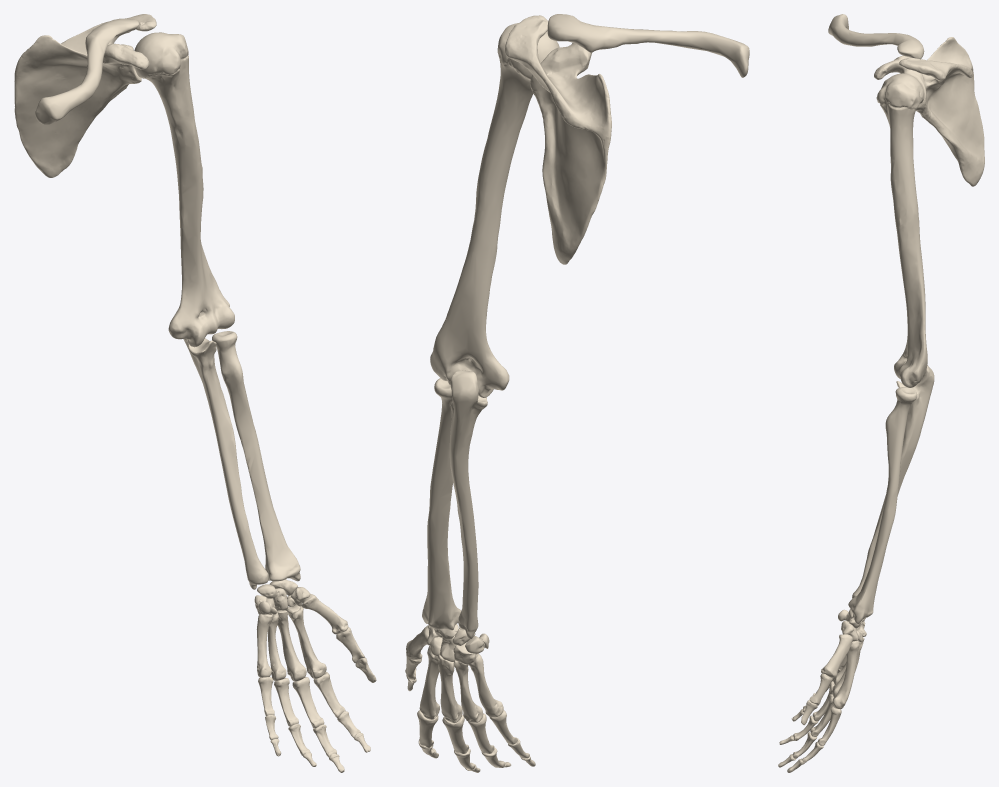
Rendered from skeletal.upper_limb_left.glb.
3 renders of one model, left to right at view 1: azimuth 30°, elevation 25°; view 2: azimuth 150°, elevation 25°; view 3: azimuth 270°, elevation 25°, orthographic. The views are drawn at different scales.
Parts seen in each view (by area): view 1: left_humerus, left_scapula, left_radius, left_ulna, left_clavicle, left_second_metacarpal_bone, left_third_metacarpal_bone, left_fifth_metacarpal_bone, left_first_metacarpal_bone, left_fourth_metacarpal_bone, proximal_phalanx_of_left_middle_finger; view 2: left_scapula, left_humerus, left_ulna, left_radius, left_clavicle, left_third_metacarpal_bone, left_second_metacarpal_bone, left_fifth_metacarpal_bone, left_fourth_metacarpal_bone; view 3: left_humerus, left_scapula, left_radius, left_ulna, left_clavicle, left_second_metacarpal_bone, left_first_metacarpal_bone.
Boxes of the visible parts, x1,y1,x2,y2 form: left_humerus: (134,32,234,347); left_scapula: (14,14,156,177); left_radius: (212,331,300,581); left_ulna: (183,338,268,589); left_clavicle: (35,18,139,124); left_second_metacarpal_bone: (285,604,326,678); left_third_metacarpal_bone: (277,610,306,681); left_fifth_metacarpal_bone: (256,614,272,677); left_first_metacarpal_bone: (301,593,348,634); left_fourth_metacarpal_bone: (268,612,286,680); proximal_phalanx_of_left_middle_finger: (292,677,324,728); left_scapula: (505,15,611,264); left_humerus: (430,23,559,397); left_ulna: (449,370,487,639); left_radius: (422,378,461,630); left_clavicle: (547,14,749,77); left_third_metacarpal_bone: (437,654,462,723); left_second_metacarpal_bone: (419,646,439,719); left_fifth_metacarpal_bone: (468,653,503,717); left_fourth_metacarpal_bone: (454,660,483,722); left_humerus: (876,73,927,387); left_scapula: (874,37,984,186); left_radius: (848,387,917,623); left_ulna: (852,365,934,598); left_clavicle: (828,14,924,59); left_second_metacarpal_bone: (832,640,859,709); left_first_metacarpal_bone: (821,634,852,678).
Bounding box in the file's own units: 0.3157 × 0.7022 × 0.1998.
